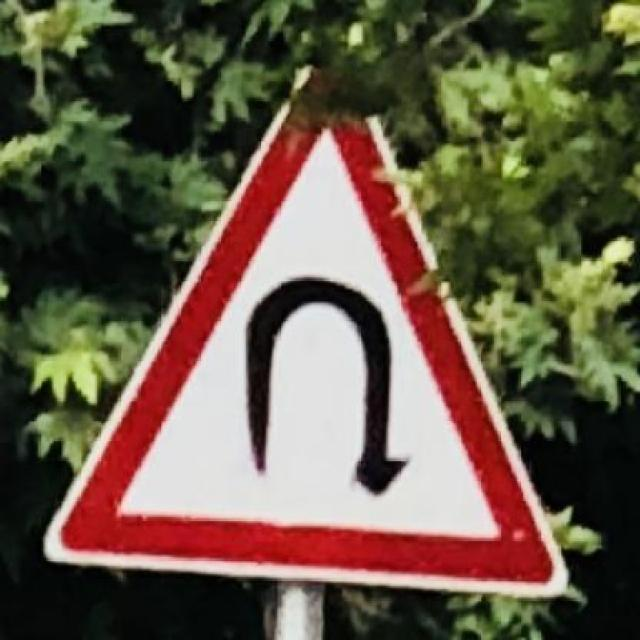u turn: (52, 50, 566, 604)
